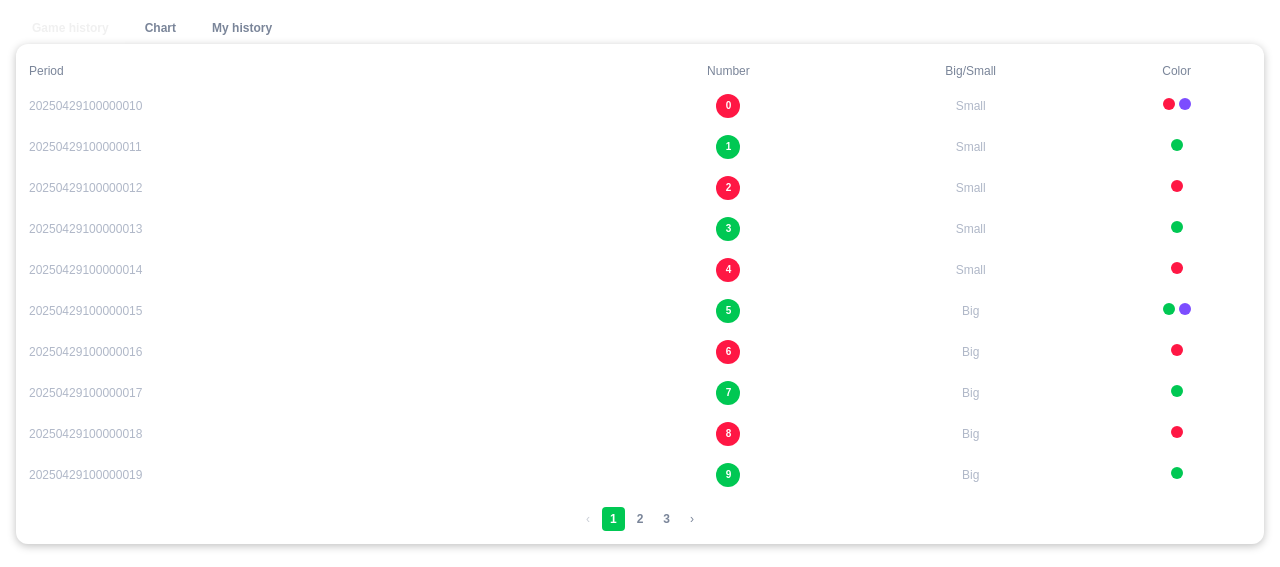
it: HistoryTable › shows empty state when no bets in my history
Click the tab "My history" at (242, 28), box [196, 12, 288, 44]
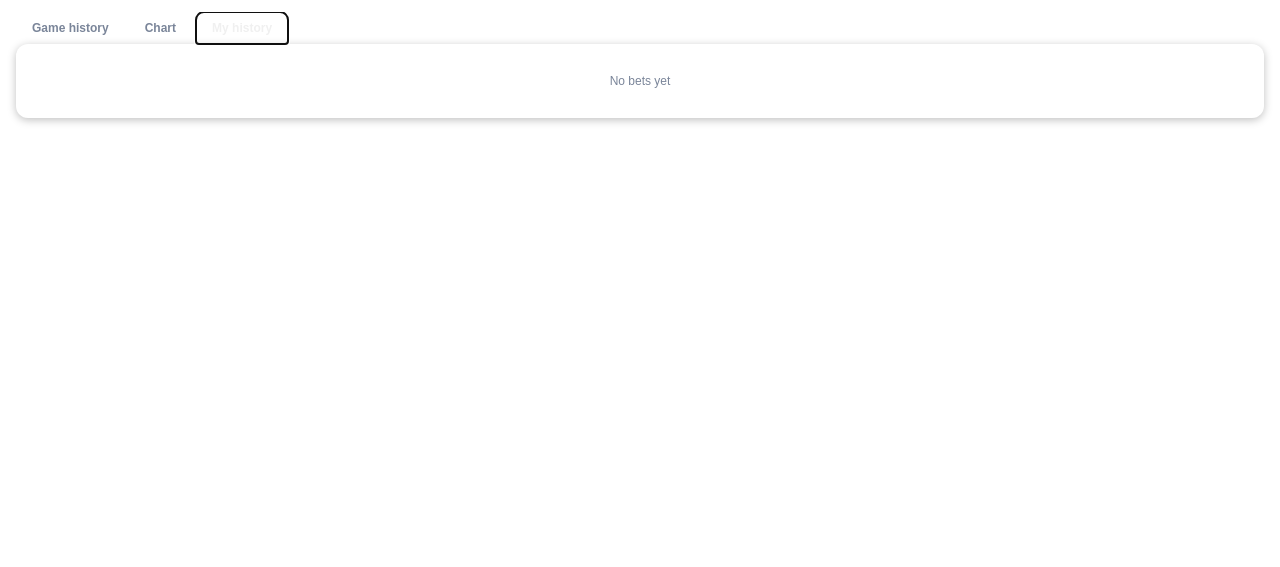
Expected: the text "No bets yet" is shown, [610, 74, 670, 88]
